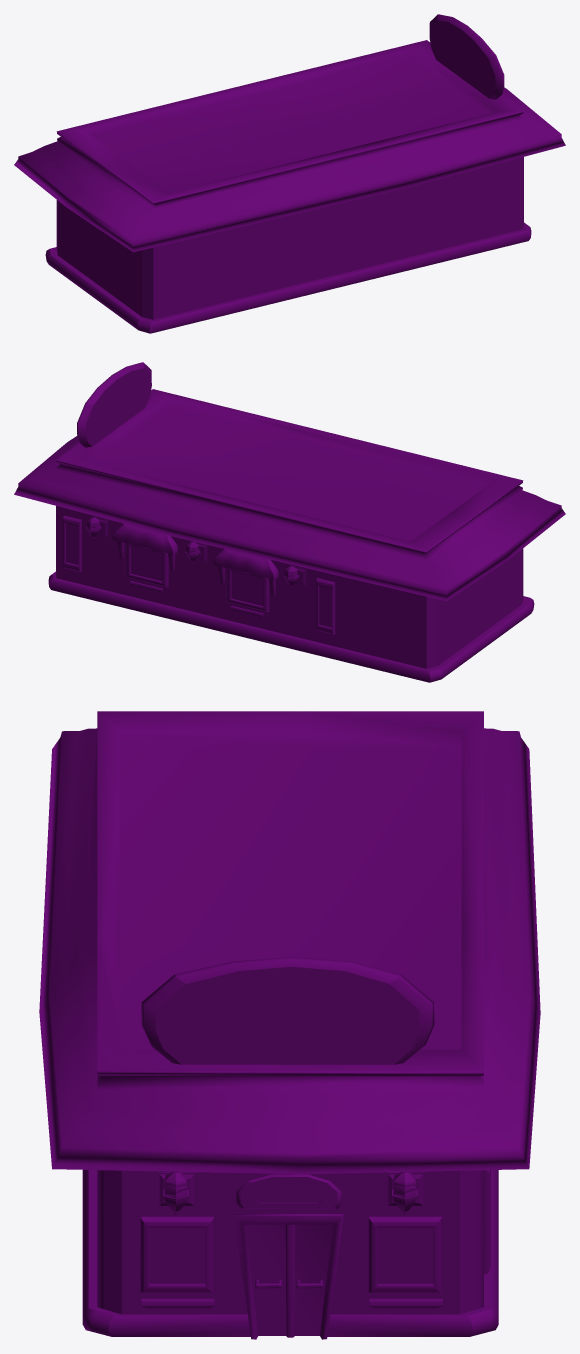
The model's file is Este es el bueno de la tiendita.fbx.
3 views of the same model, one above another, from view 1: azimuth 30°, elevation 25°; view 2: azimuth 150°, elevation 25°; view 3: azimuth 270°, elevation 25° (orthographic). The views are drawn at different scales.
Parts seen in each view (by area): view 1: Ventana_larga_1; view 2: Ventana_larga_1; view 3: Ventana_larga_1.
Boxes of the visible parts, left/top/right/bottom form: Ventana_larga_1: left=14, top=14, right=565, bottom=333; Ventana_larga_1: left=14, top=362, right=565, bottom=682; Ventana_larga_1: left=39, top=711, right=540, bottom=1339.
Size of the model in its own units: 1716 by 673 by 843.
